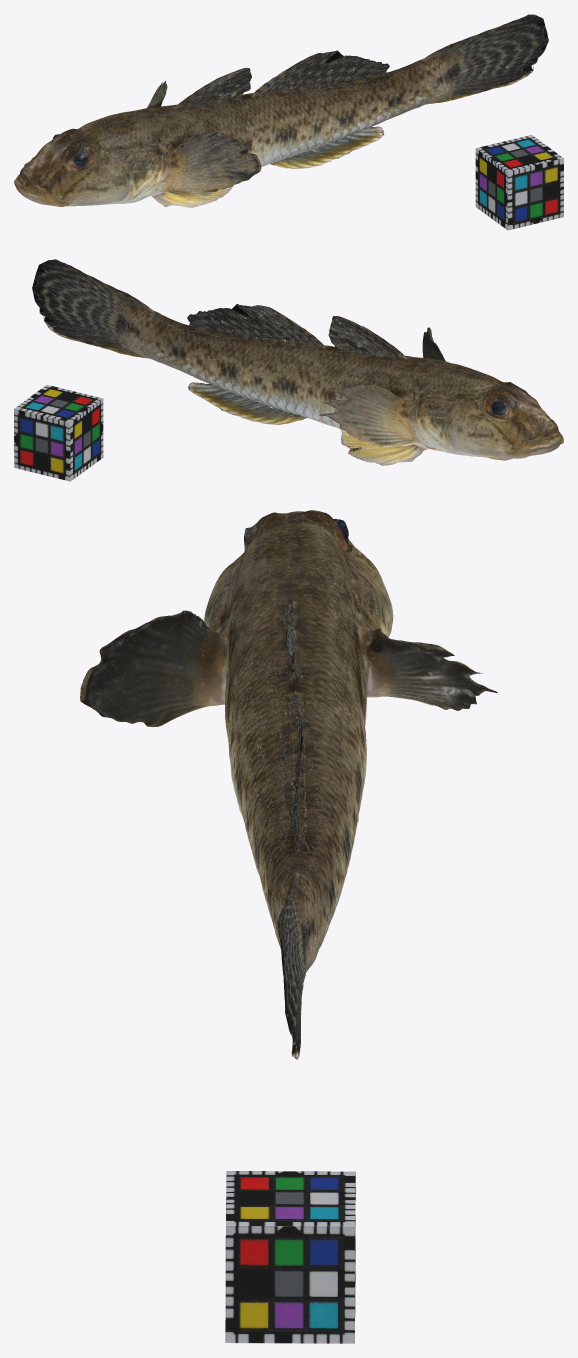
The model's file is mahaze-3f106edbbfe8.glb.
The picture shows the model from 3 angles, top to bottom: view 1: azimuth 30°, elevation 25°; view 2: azimuth 150°, elevation 25°; view 3: azimuth 270°, elevation 25°; orthographic projection. The views are drawn at different scales.
Visible parts, largest first — view 1: Q11248-1all.001_5, Cube_2; view 2: Q11248-1all.001_5, Cube_2; view 3: Q11248-1all.001_5, Cube_2.
Boxes of the visible parts, left/top/right/bottom form: Q11248-1all.001_5: left=14, top=14, right=548, bottom=207; Cube_2: left=475, top=135, right=563, bottom=230; Q11248-1all.001_5: left=32, top=259, right=563, bottom=465; Cube_2: left=14, top=385, right=103, bottom=481; Q11248-1all.001_5: left=80, top=510, right=497, bottom=1059; Cube_2: left=225, top=1171, right=355, bottom=1343.
Bounding box in the file's own units: 5.03 × 1.93 × 1.72.
2 materials, 2 textured.
